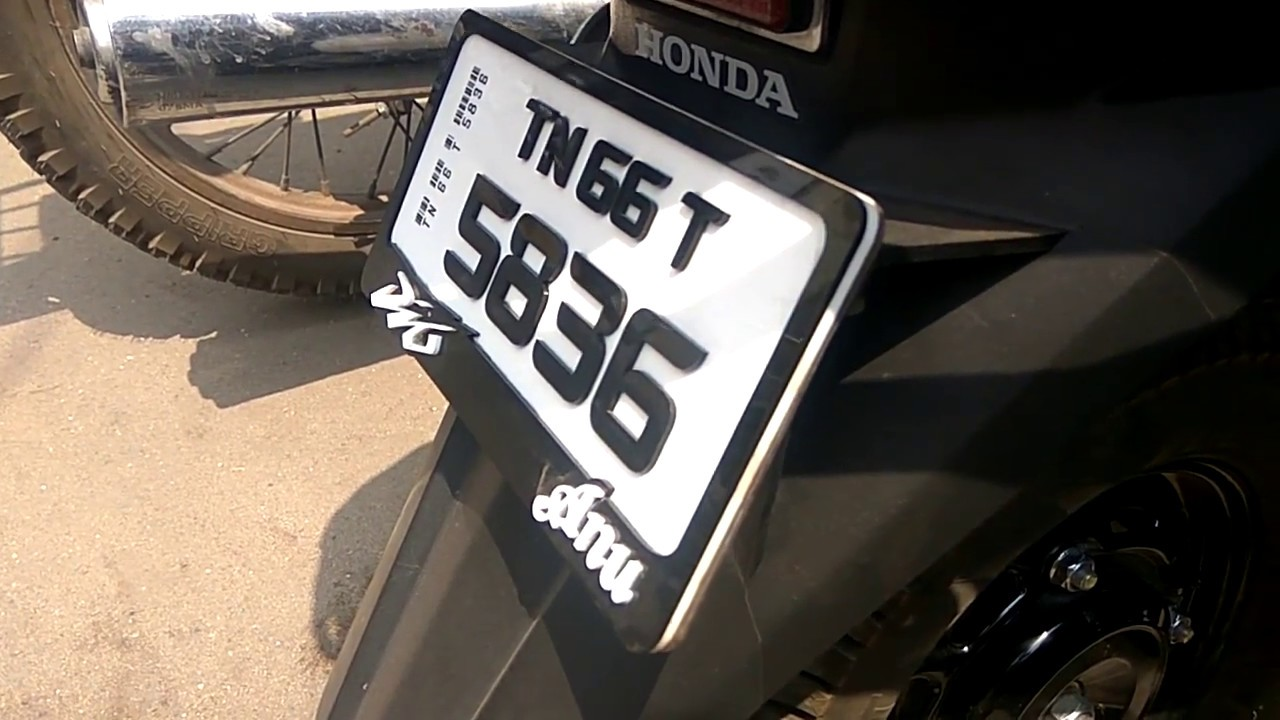number_plate: (358, 7, 886, 657)
